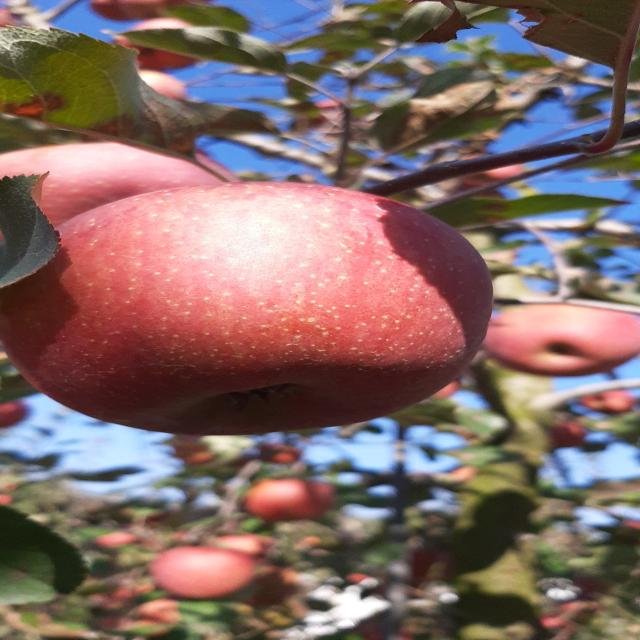fresh: (1, 178, 510, 438)
